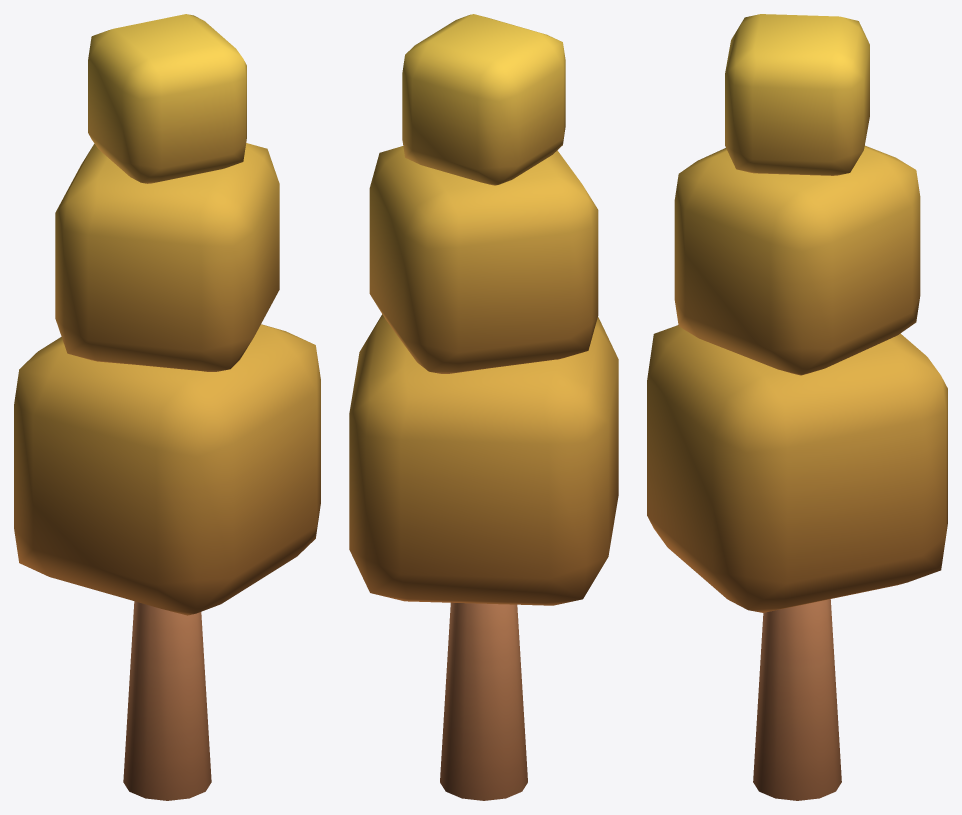
Rendered from lpb_tree_6_c.fbx.
3 renders of one model, left to right at view 1: azimuth 30°, elevation 25°; view 2: azimuth 150°, elevation 25°; view 3: azimuth 270°, elevation 25°, orthographic.
Parts seen in each view (by area): view 1: ap_tree_6.002; view 2: ap_tree_6.002; view 3: ap_tree_6.002.
Boxes of the visible parts, box(x1,y1,x2,y2) form: ap_tree_6.002: box(14, 14, 320, 800); ap_tree_6.002: box(349, 14, 618, 800); ap_tree_6.002: box(647, 14, 947, 800).
Size of the model in its own units: 185 by 508 by 185.
